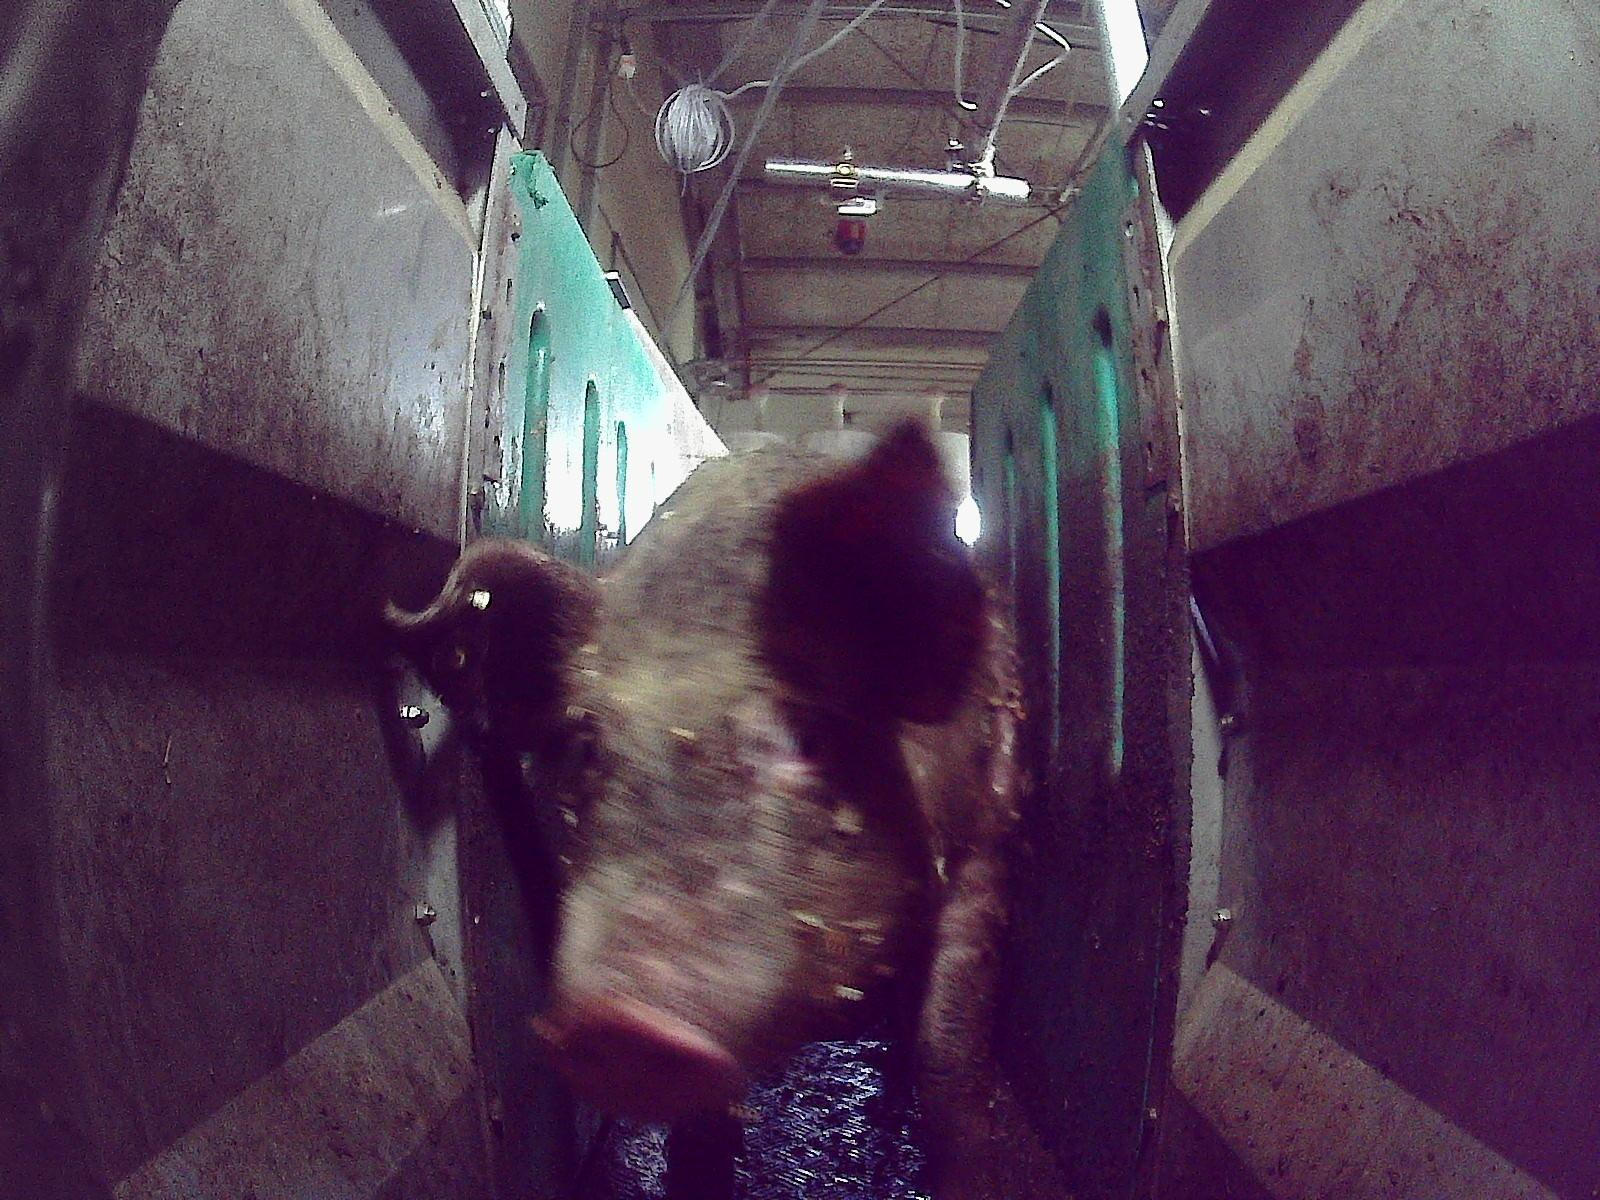Face: (528, 504, 921, 1122)
